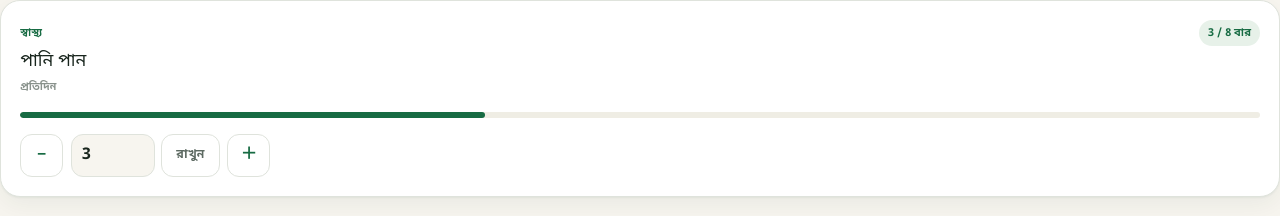
Test: ActivityCard counter input › updates the direct input immediately when step controls are used
Expected: the number field named "সরাসরি সংখ্যা লিখুন" holds "3", [71,134,155,177]
Click the button named "এক বাড়ান": [249, 155] box [227,134,270,177]
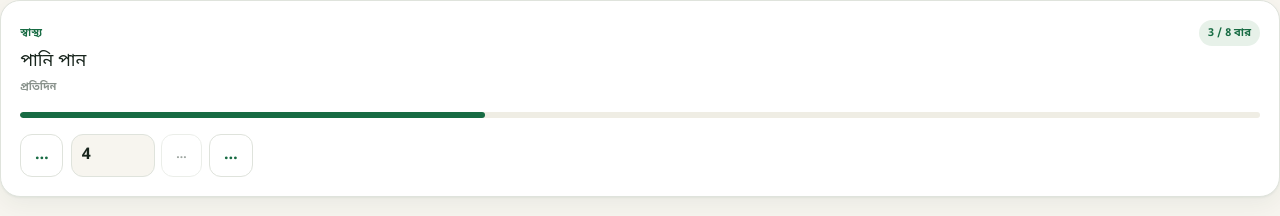
Expected: the number field named "সরাসরি সংখ্যা লিখুন" holds "4", [71,134,155,177]
Click the button named "এক বাড়ান": [231, 155] box [209,134,252,177]
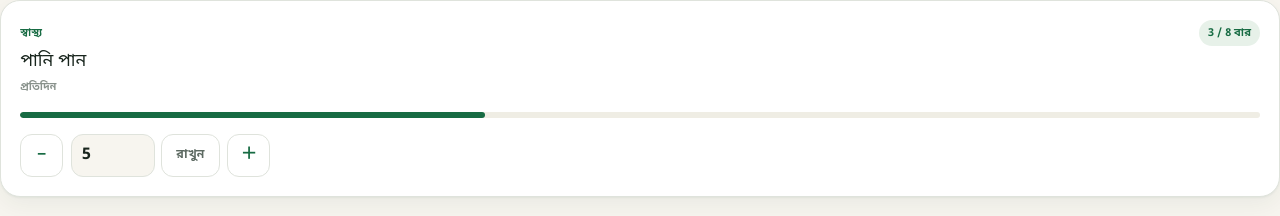
Expected: the number field named "সরাসরি সংখ্যা লিখুন" holds "5", [71,134,155,177]
Expected: the button "রাখুন" is shown, [161,134,220,177]
